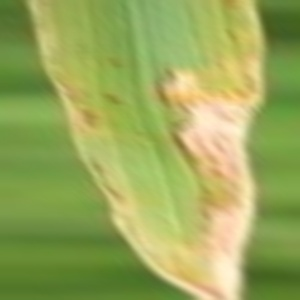Leaf_Blast: (106, 6, 261, 293)
